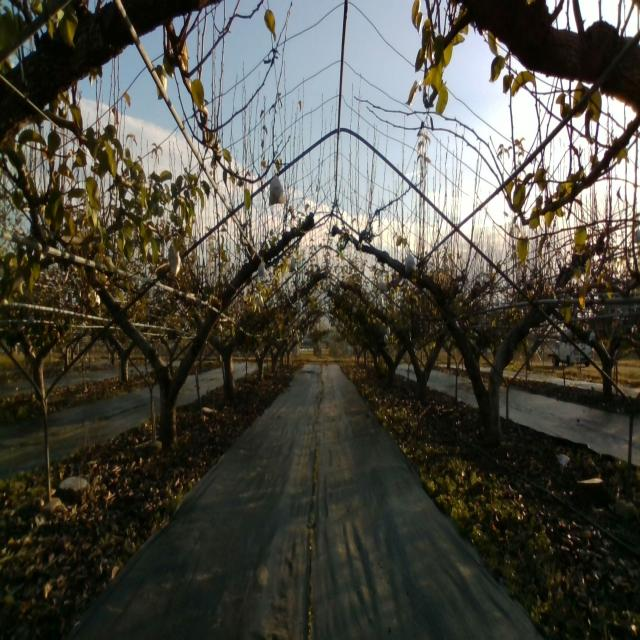pearbags: (268, 169, 286, 206), (167, 243, 182, 276), (405, 250, 416, 273)
